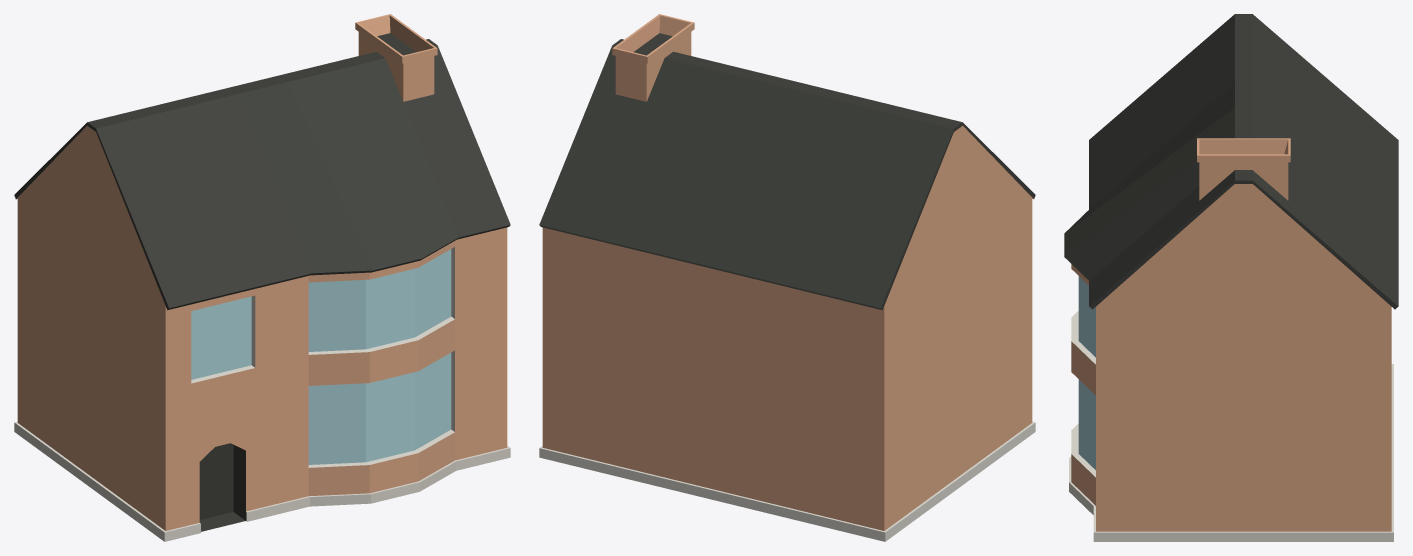
File: House01.fbx
3 renders of one model, left to right at view 1: azimuth 30°, elevation 25°; view 2: azimuth 150°, elevation 25°; view 3: azimuth 270°, elevation 25°, orthographic.
Parts seen in each view (by area): view 1: House03; view 2: House03; view 3: House03.
Part boxes in pixels (bbox=[...]): House03: bbox=[14, 14, 510, 541]; House03: bbox=[539, 14, 1035, 541]; House03: bbox=[1064, 14, 1398, 541].
Size of the model in its own units: 162 by 169 by 136.
